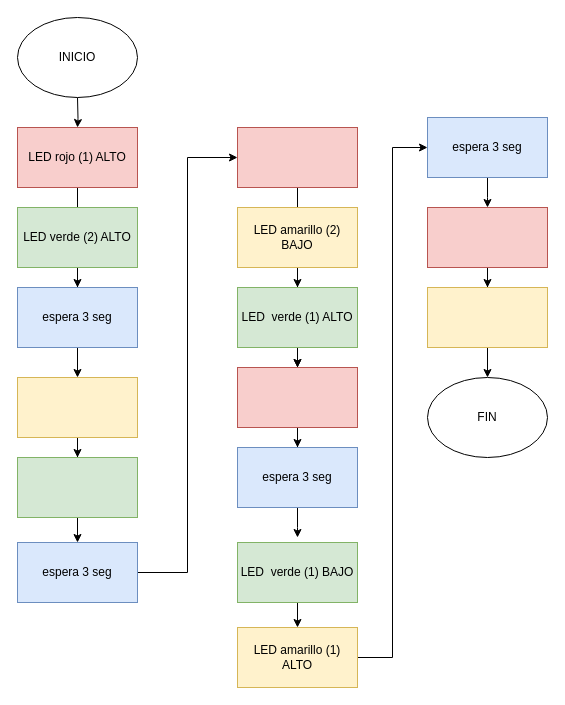
The diagram is 565 pixels wide and 705 high, and some of its shapes have lost their labels. Here are the shapes that lost their labels. From the top down, the box of each, then its label:
(236, 126, 358, 188): LED rojo (2) ALTO
(426, 206, 548, 268): LED rojo (2) BAJO
(426, 286, 548, 348): LED amarillo (1) BAJO
(16, 376, 138, 438): LED amarillo (2) ALTO
(236, 366, 358, 428): LED rojo (1) BAJO
(16, 456, 138, 518): LED verde (2) BAJO
